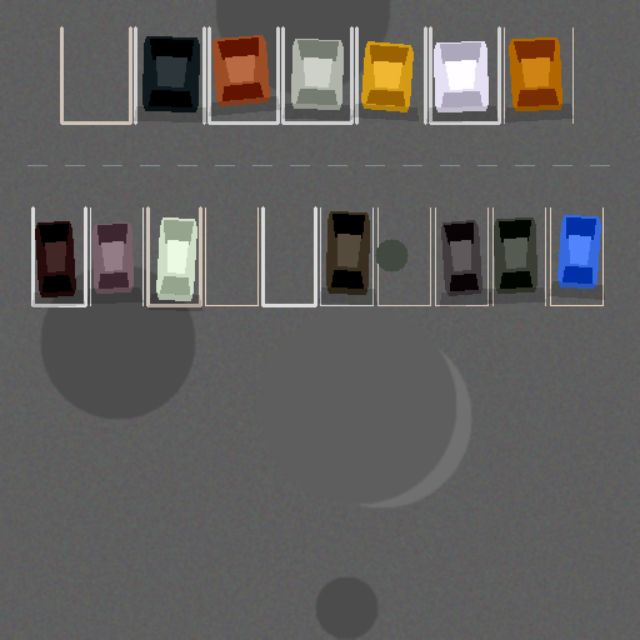space-empty: (61, 28, 130, 123), (377, 208, 430, 305), (205, 208, 257, 305), (263, 208, 315, 305)
space-occupied: (135, 28, 204, 123), (209, 28, 278, 123), (282, 28, 351, 123), (356, 28, 425, 123), (430, 28, 499, 123), (504, 28, 572, 123), (90, 208, 143, 305), (147, 208, 200, 305), (320, 208, 373, 305), (550, 208, 603, 305), (33, 208, 85, 305), (435, 208, 487, 305), (493, 208, 545, 305)
